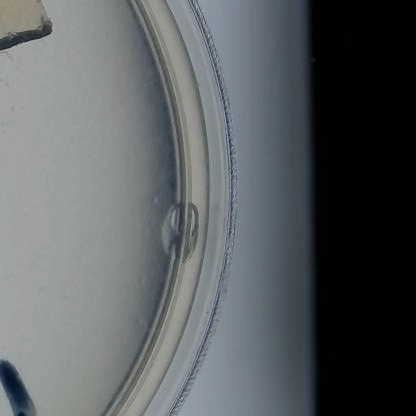worm: (2, 52, 16, 64)
